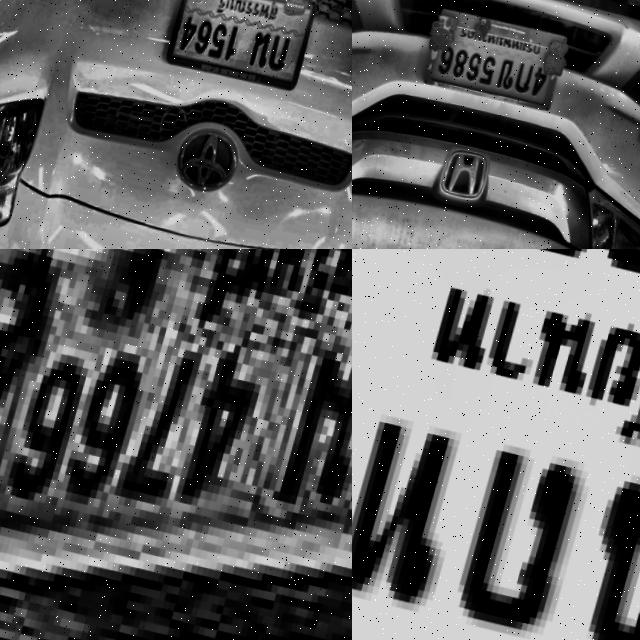license-plate: (0, 249, 352, 640), (352, 249, 640, 640), (419, 0, 581, 114), (165, 0, 326, 91)
